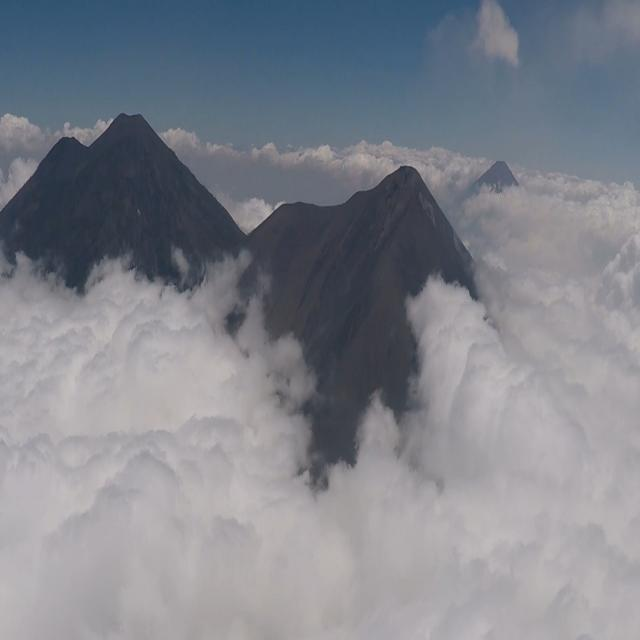Plume: (466, 0, 521, 70)
Summit: (340, 159, 454, 229)
